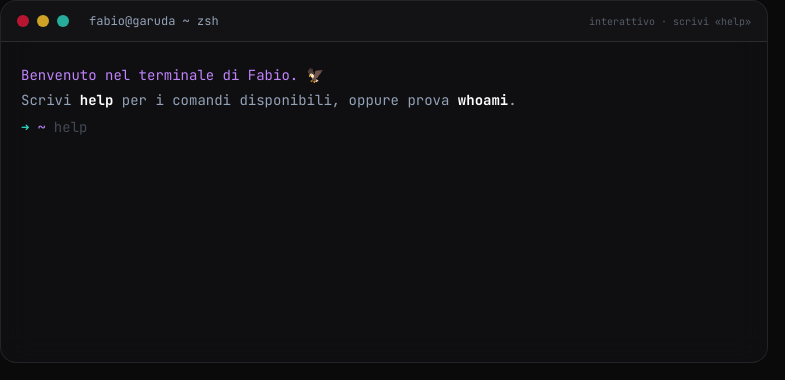
Scenario: Terminal interattivo › il comando whoami stampa nome e ruolo
The image size is (785, 380).
Type "whoami" into the field named "Terminale interattivo" at (400, 127), box [54,116,747,138]
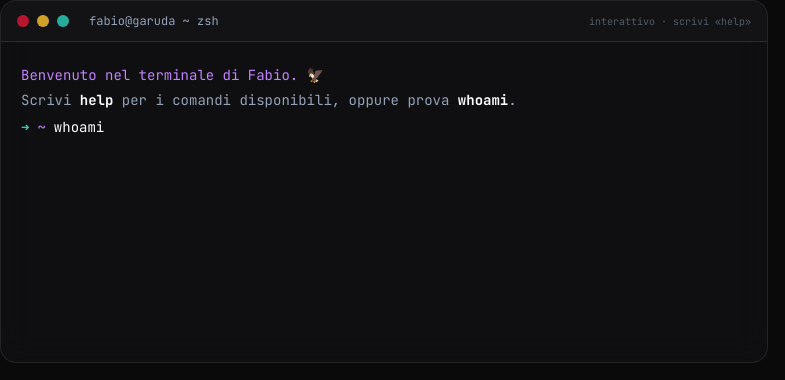
Press Enter in the field named "Terminale interattivo", box [54,116,747,138]
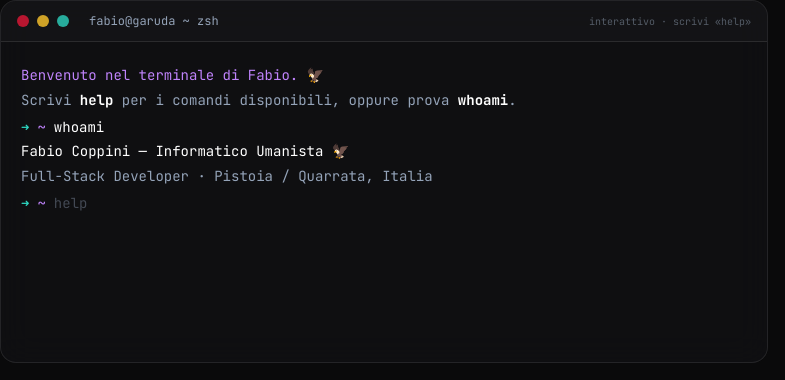
Check: the text "Fabio Coppini — Informatico Umanista 🦅" is shown, box [21,142,349,160]
